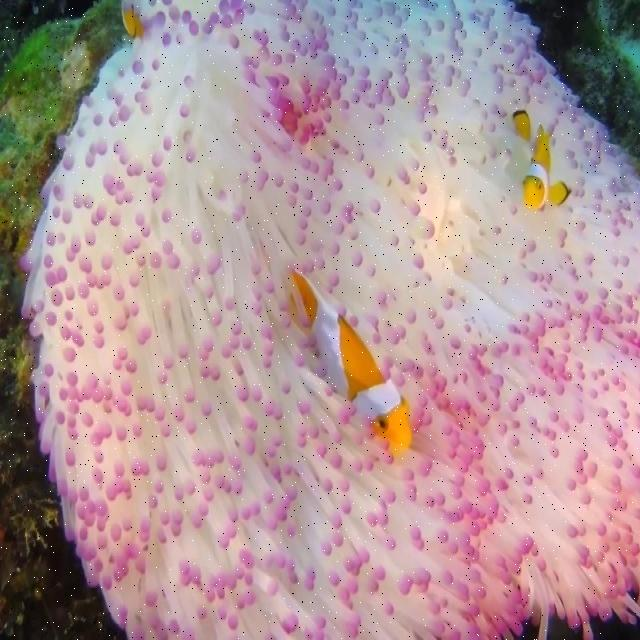fish: (296, 270, 413, 454), (524, 122, 568, 207)
reefs: (19, 0, 639, 639)
